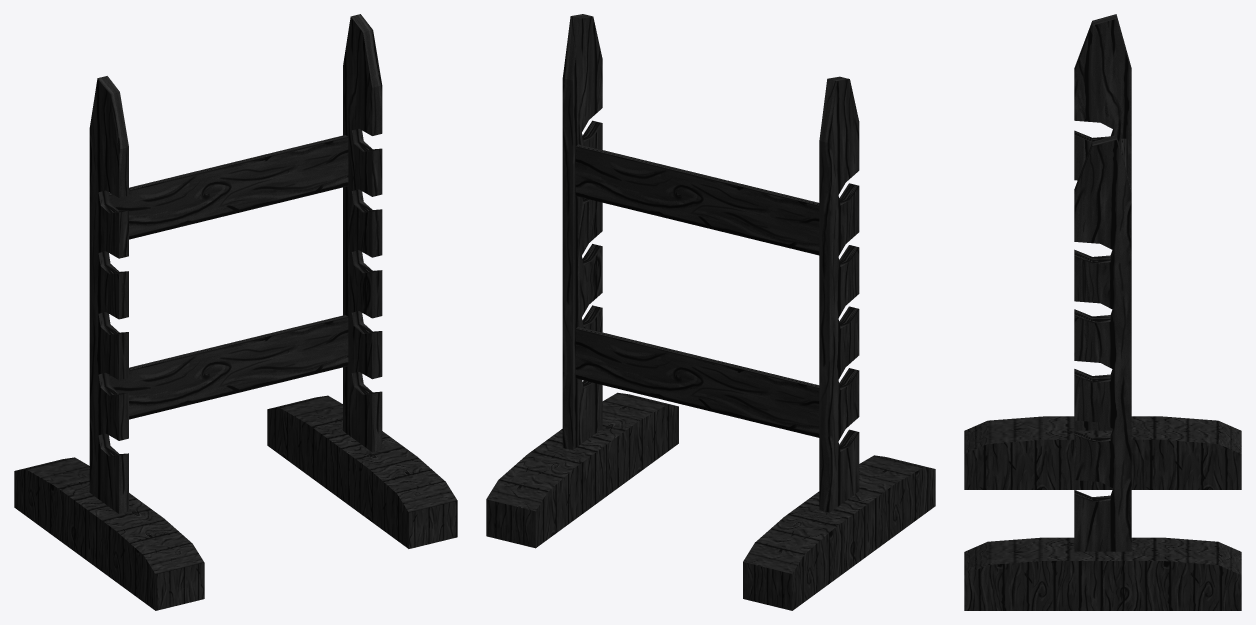
File: weapon_rack.fbx
3 renders of one model, left to right at view 1: azimuth 30°, elevation 25°; view 2: azimuth 150°, elevation 25°; view 3: azimuth 270°, elevation 25°, orthographic. The views are drawn at different scales.
Parts seen in each view (by area): view 1: shared_weaponrack; view 2: shared_weaponrack; view 3: shared_weaponrack.
Boxes of the visible parts, x1=… form: shared_weaponrack: x1=14, y1=14, x2=457, y2=610; shared_weaponrack: x1=486, y1=14, x2=935, y2=610; shared_weaponrack: x1=964, y1=14, x2=1241, y2=610.
Size of the model in its own units: 189 by 282 by 153.
